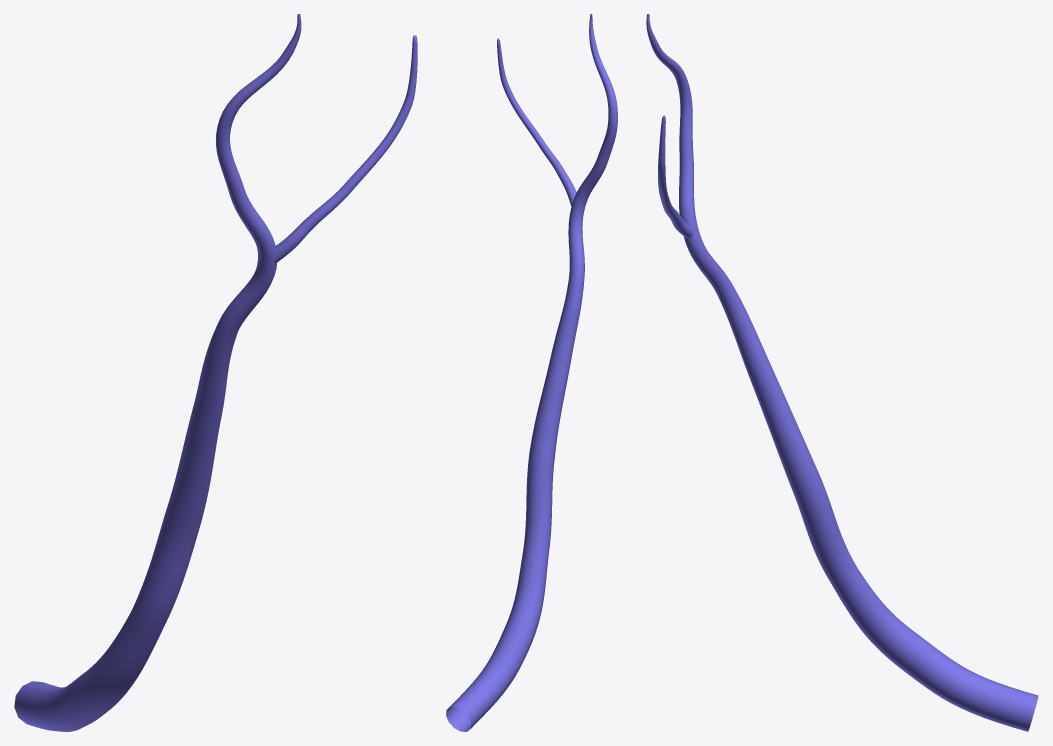
File: Superficial_epigastric_vein.r_BezierCurve.370.glb
The picture shows the model from 3 angles, left to right: view 1: azimuth 30°, elevation 25°; view 2: azimuth 150°, elevation 25°; view 3: azimuth 270°, elevation 25°; orthographic projection. The views are drawn at different scales.
Visible parts, largest first — view 1: Superficial_epigastric_vein.r_BezierCurve.370; view 2: Superficial_epigastric_vein.r_BezierCurve.370; view 3: Superficial_epigastric_vein.r_BezierCurve.370.
Part boxes in pixels (left/top/right/bottom): Superficial_epigastric_vein.r_BezierCurve.370: left=14, top=14, right=417, bottom=731; Superficial_epigastric_vein.r_BezierCurve.370: left=446, top=14, right=617, bottom=731; Superficial_epigastric_vein.r_BezierCurve.370: left=646, top=14, right=1038, bottom=731.
Size of the model in its own units: 0.0299 by 0.1274 by 0.0619.
